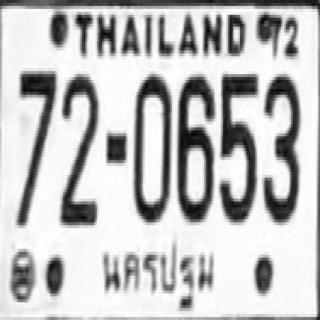N00: (133, 71, 170, 219)
N02: (59, 71, 98, 222)
N03: (262, 71, 300, 219)
N05: (218, 71, 257, 219)
N06: (175, 73, 213, 221)
N07: (15, 68, 55, 225)
P28: (99, 235, 220, 312)
